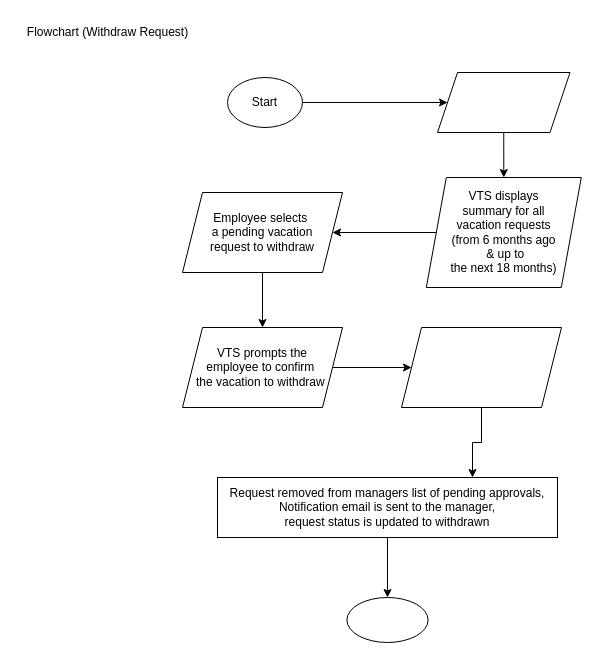
Some shapes in this 599 by 660 pixel diagram are drawn without their labels. The shapes that lost their labels are listed below. From the top down, each one's centre as x and y in pixels, then its label:
(x=503, y=102): Navigates to the VTS through the intranet portal
(x=481, y=367): Employee confirms the withdraw
(x=387, y=619): End
